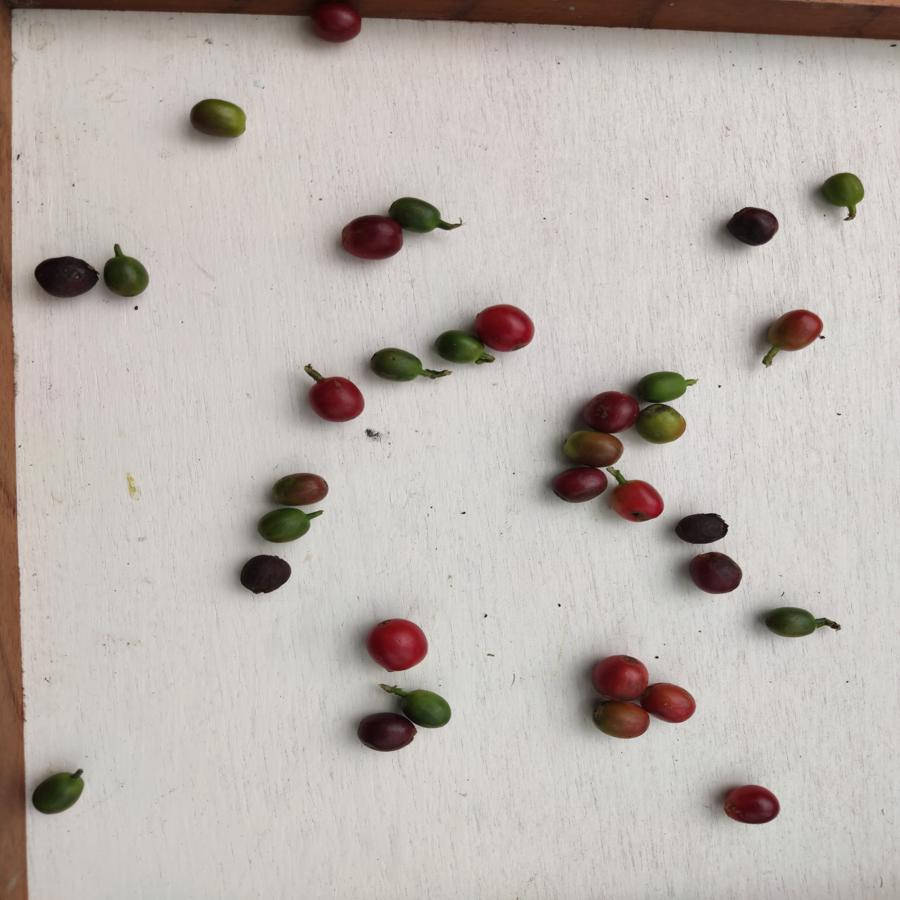Inmaduro: (365, 344, 430, 384), (32, 769, 86, 817), (102, 253, 154, 301), (253, 505, 312, 547), (389, 195, 449, 234), (405, 686, 456, 729), (434, 328, 486, 368), (764, 603, 820, 639), (635, 365, 688, 402), (819, 171, 867, 210)
Maduro: (476, 297, 543, 354), (368, 615, 427, 673), (306, 367, 367, 423), (606, 475, 664, 525), (588, 654, 649, 699), (647, 678, 699, 726)
Pinton: (764, 306, 826, 353), (188, 97, 251, 139), (589, 702, 653, 743), (639, 403, 691, 449), (558, 432, 624, 468), (267, 471, 332, 505)
Sobremaduro: (33, 254, 99, 300), (337, 214, 404, 259), (717, 779, 781, 824), (356, 712, 420, 753), (687, 550, 743, 594), (584, 388, 635, 434), (306, 3, 363, 44), (727, 205, 782, 246), (236, 553, 290, 593), (549, 466, 606, 503), (673, 512, 732, 545)
